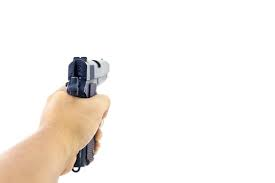gun: (51, 55, 113, 175)
